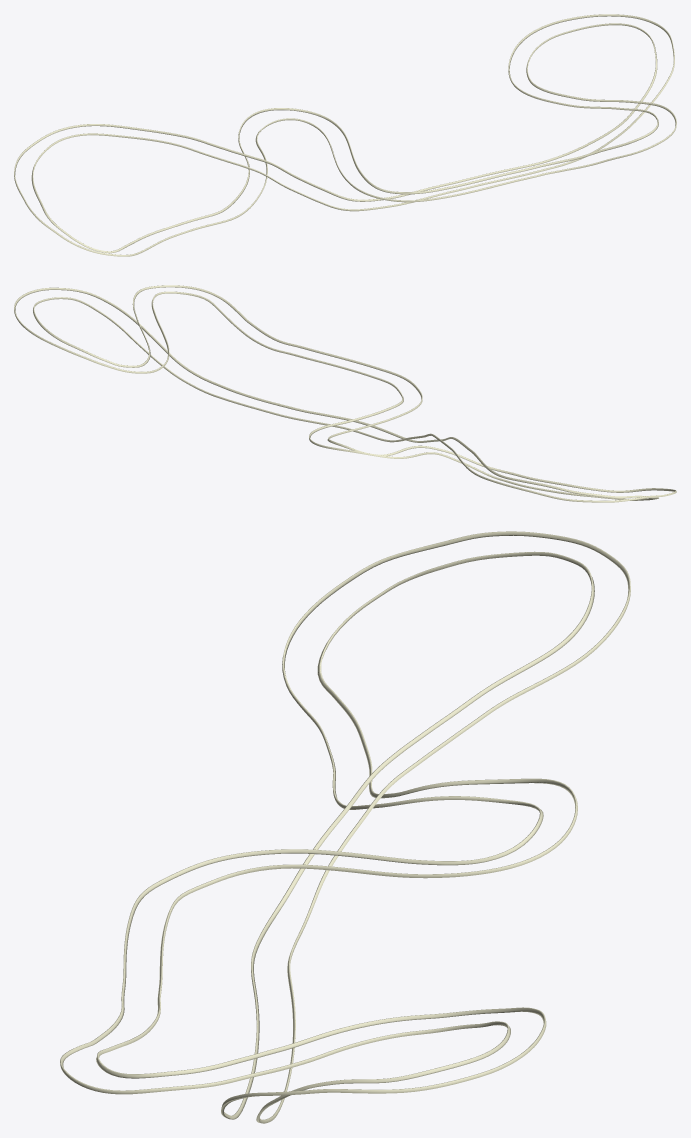
The model's file is DesertMap_walls.fbx.
3 renders of one model, top to bottom at view 1: azimuth 30°, elevation 25°; view 2: azimuth 150°, elevation 25°; view 3: azimuth 270°, elevation 25°, orthographic. The views are drawn at different scales.
Visible parts, largest first — view 1: poly_wall2, poly_wall3; view 2: poly_wall2, poly_wall3; view 3: poly_wall2, poly_wall3.
Part boxes in pixels (x1,y1,x2,y2): poly_wall2: (31, 14, 674, 253); poly_wall3: (14, 23, 676, 256); poly_wall2: (14, 287, 658, 500); poly_wall3: (33, 285, 676, 502); poly_wall2: (96, 551, 594, 1119); poly_wall3: (60, 531, 630, 1123).
Size of the model in its own units: 3327 by 411 by 1312.
